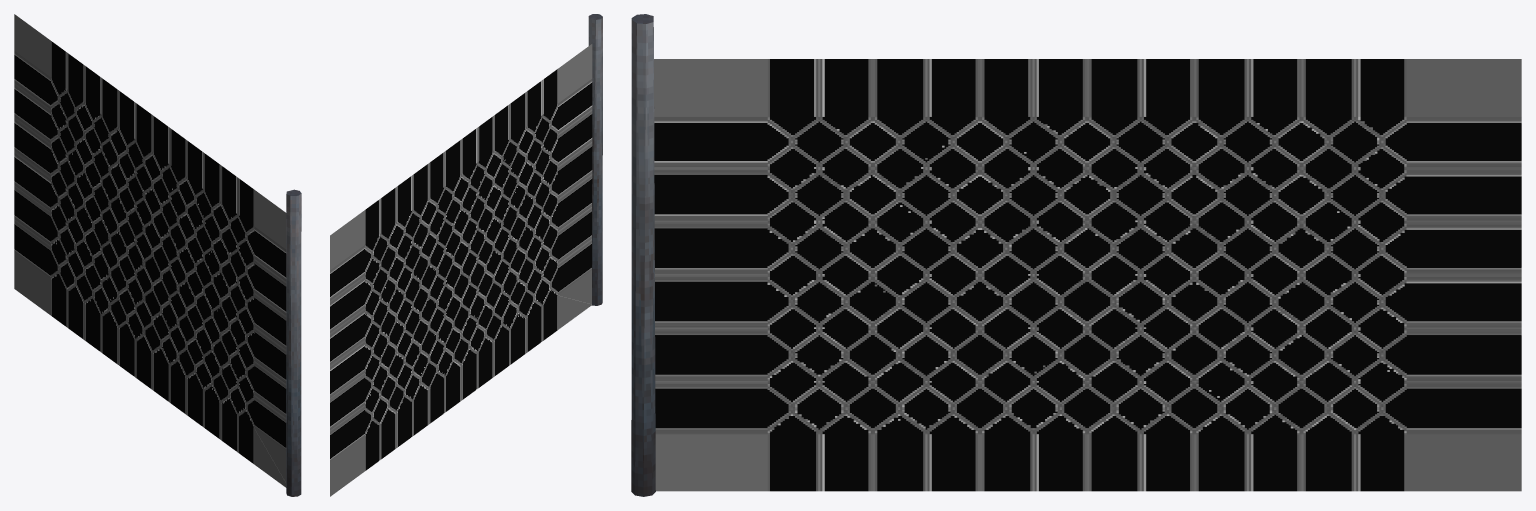
Rendered from fence_barbed_1.fbx.
3 renders of one model, left to right at view 1: azimuth 30°, elevation 25°; view 2: azimuth 150°, elevation 25°; view 3: azimuth 270°, elevation 25°, orthographic. The views are drawn at different scales.
Parts seen in each view (by area): view 1: barbed_fence.003, steel_rod.003; view 2: barbed_fence.003, steel_rod.003; view 3: barbed_fence.003, steel_rod.003.
Part boxes in pixels (left/top/right/bottom): barbed_fence.003: left=14, top=14, right=286, bottom=487; steel_rod.003: left=286, top=189, right=301, bottom=496; barbed_fence.003: left=330, top=44, right=592, bottom=496; steel_rod.003: left=588, top=14, right=602, bottom=305; barbed_fence.003: left=654, top=59, right=1521, bottom=491; steel_rod.003: left=631, top=14, right=655, bottom=496.
Size of the model in its own units: 19.52 by 418 by 713.
